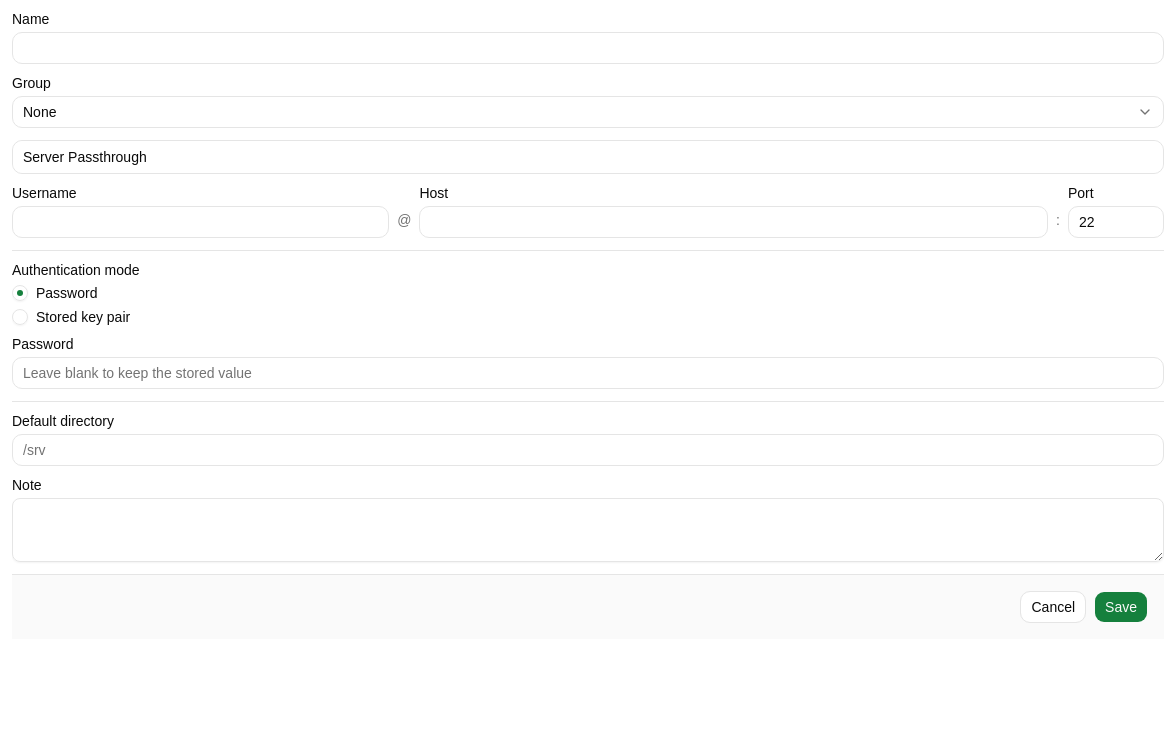
Test case: SSHForm › adds Proxy badge when passthrough proxy host is entered
Click the button "Server Passthrough" at {"x": 85, "y": 157}, box [13, 141, 1163, 173]
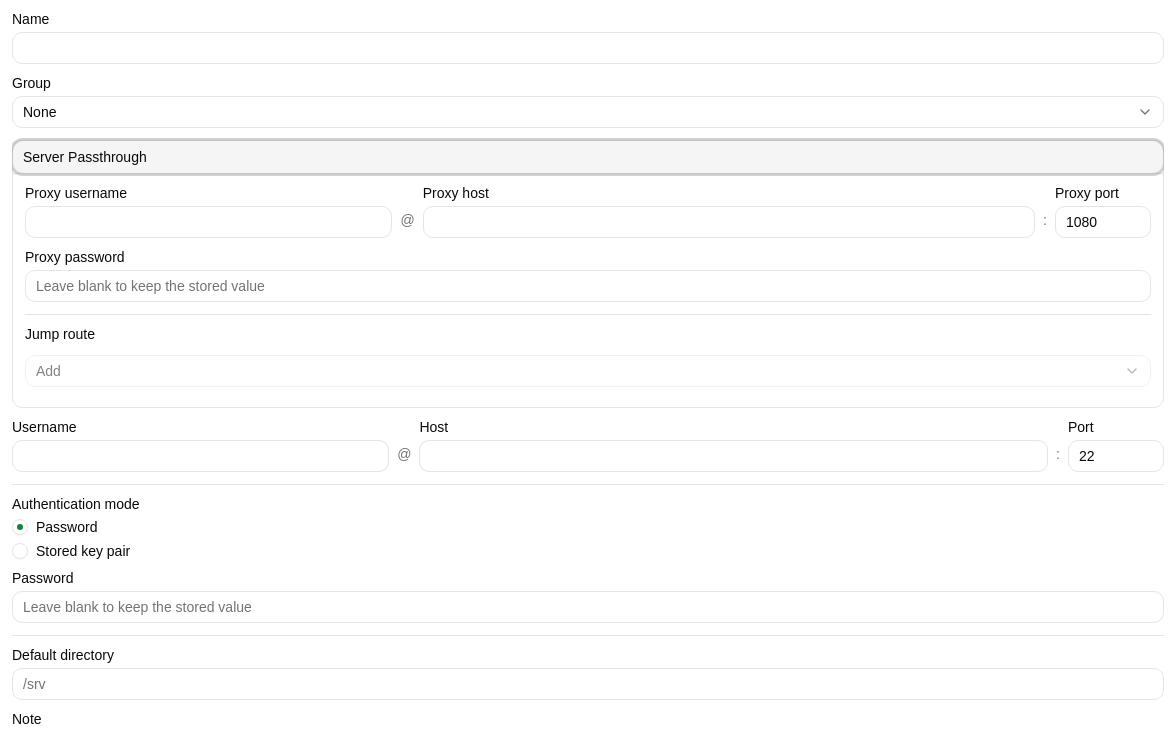
Type "proxy.example" into the field labelled "Proxy host" at {"x": 729, "y": 222}, box [423, 206, 1035, 238]
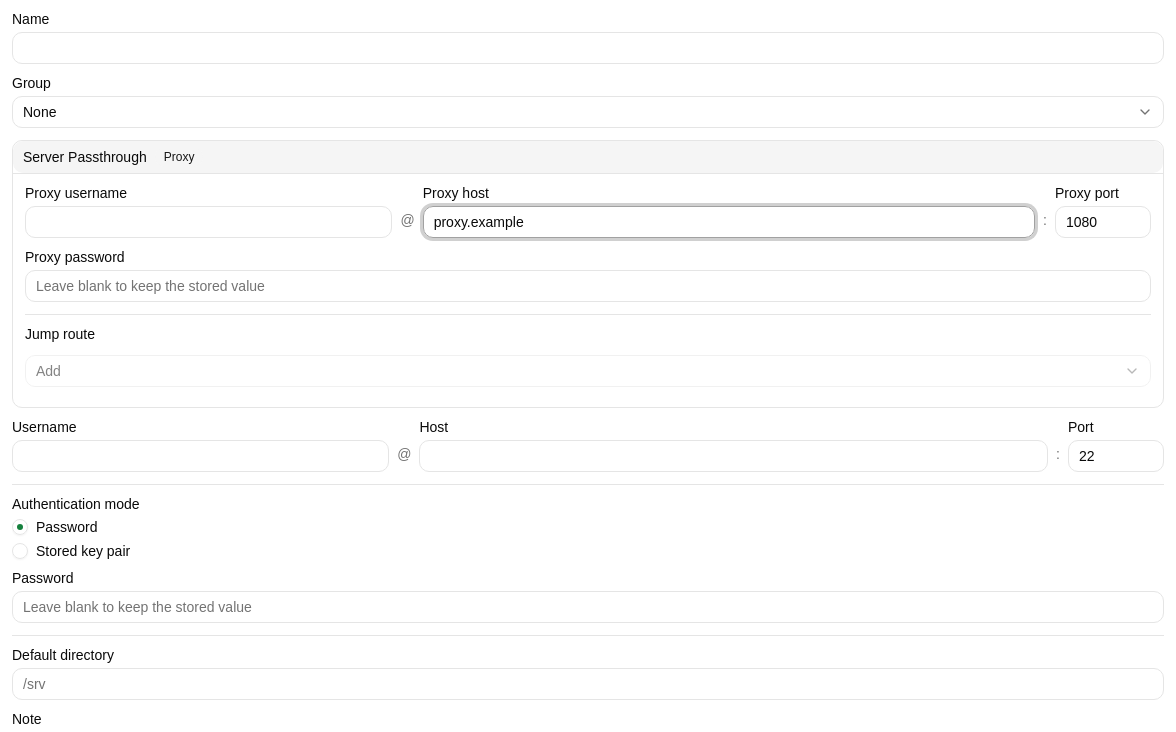
Expected: the icon "Proxy" is shown, [155, 147, 203, 167]
